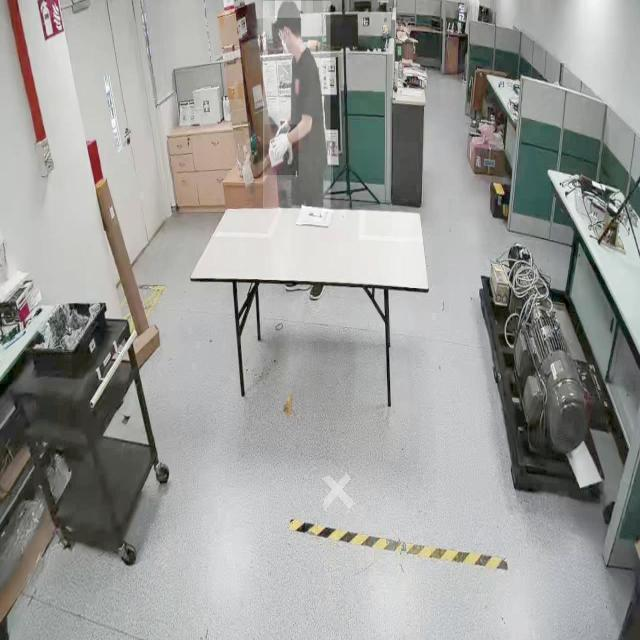hand_glove: (265, 124, 299, 176)
head_nohelmet: (275, 0, 301, 19)
person: (263, 1, 331, 209)
